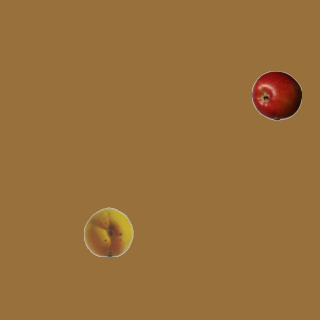Apple Braeburn: (251, 70, 301, 120)
Peach 2: (83, 206, 133, 256)
